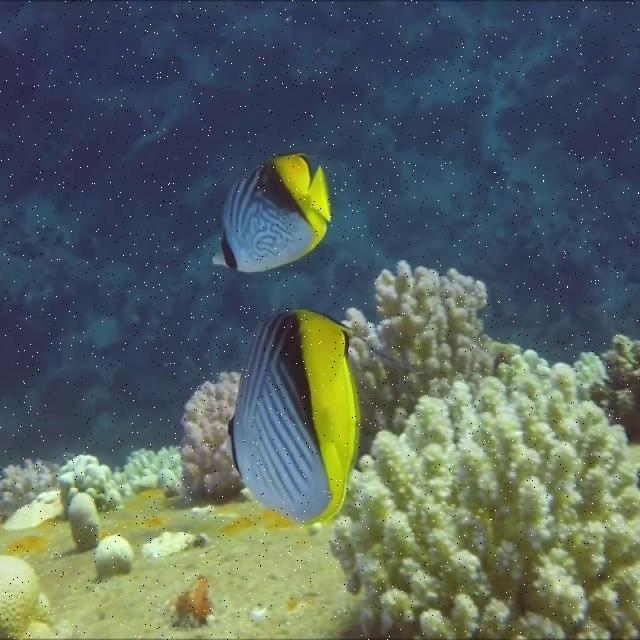fish: (220, 309, 360, 524), (209, 153, 332, 271)
reefs: (331, 352, 639, 638), (345, 258, 639, 453), (58, 446, 182, 515), (178, 372, 242, 503), (0, 554, 72, 639), (70, 495, 100, 553), (96, 537, 132, 579)
